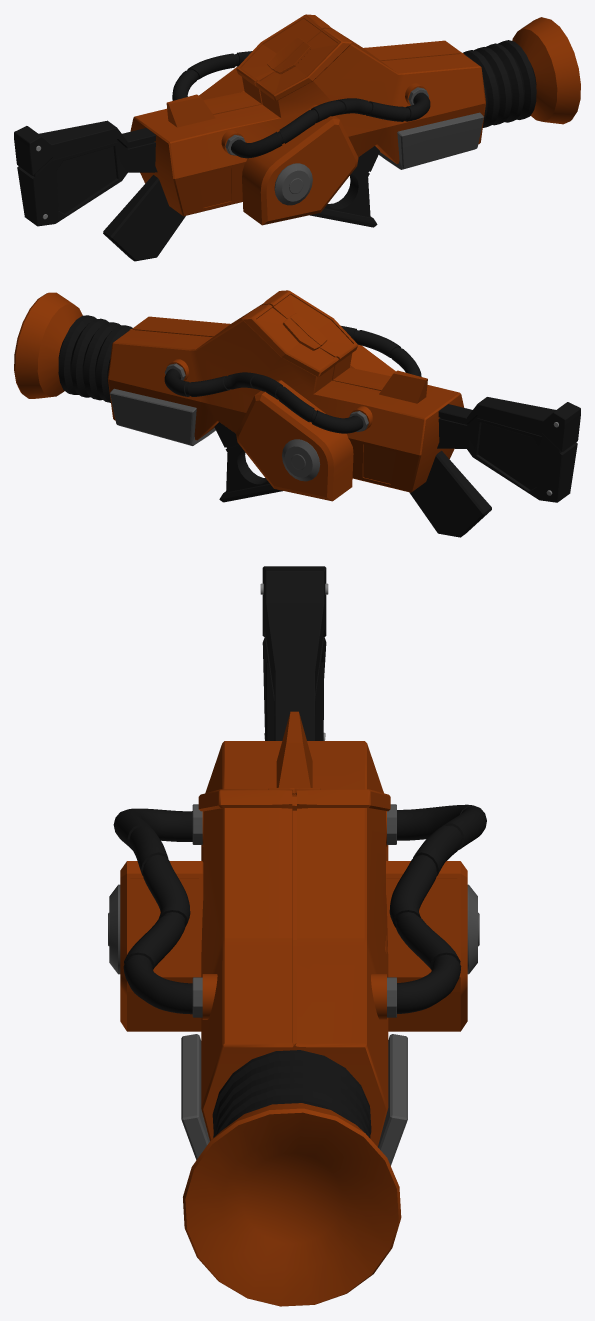
The model's file is Standard1.fbx.
3 views of the same model, one above another, from view 1: azimuth 30°, elevation 25°; view 2: azimuth 150°, elevation 25°; view 3: azimuth 270°, elevation 25° (orthographic). The views are drawn at different scales.
Parts seen in each view (by area): view 1: polySurface2, pCube8, pCylinder1 (×2), pCube7, pCube9, sweep2, polySurface3, polySurface1, sweep3, pCylinder4, pCube10; view 2: polySurface2, pCube8, pCylinder1 (×2), pCube10, pCube9, sweep3, polySurface3, polySurface1, pCylinder16, sweep2, pCube7; view 3: polySurface2, pCylinder1 (×2), pCube8, sweep3, sweep2, pCube7, pCube10, polySurface3, pCylinder4, pCylinder16.
Part boxes in pixels (x1,y1,x2,y2): polySurface2: [130, 14, 485, 216]; pCube8: [14, 120, 157, 226]; pCylinder1 (×2): [463, 17, 580, 127]; pCube7: [242, 105, 358, 225]; pCube9: [103, 175, 185, 261]; sweep2: [231, 92, 430, 158]; polySurface3: [379, 112, 483, 169]; polySurface1: [310, 146, 379, 227]; sweep3: [172, 51, 252, 100]; pCylinder4: [274, 163, 312, 205]; pCube10: [199, 66, 244, 100]; polySurface2: [108, 290, 464, 492]; pCube8: [437, 397, 580, 502]; pCylinder1 (×2): [14, 292, 132, 402]; pCube10: [236, 380, 353, 501]; pCube9: [409, 450, 491, 537]; sweep3: [164, 368, 363, 433]; polySurface3: [110, 388, 215, 445]; polySurface1: [214, 422, 282, 502]; pCylinder16: [282, 439, 320, 481]; sweep2: [341, 326, 421, 376]; pCube7: [350, 344, 395, 376]; polySurface2: [198, 711, 390, 1146]; pCylinder1 (×2): [183, 1050, 401, 1306]; pCube8: [262, 566, 326, 740]; sweep3: [389, 804, 486, 1013]; sweep2: [113, 808, 192, 1014]; pCube7: [120, 861, 203, 1031]; pCube10: [385, 861, 467, 1031]; polySurface3: [181, 1034, 407, 1165]; pCylinder4: [108, 884, 120, 974]; pCylinder16: [467, 884, 479, 974].
Bounding box in the file's own units: 55.84 × 20.65 × 17.23.
